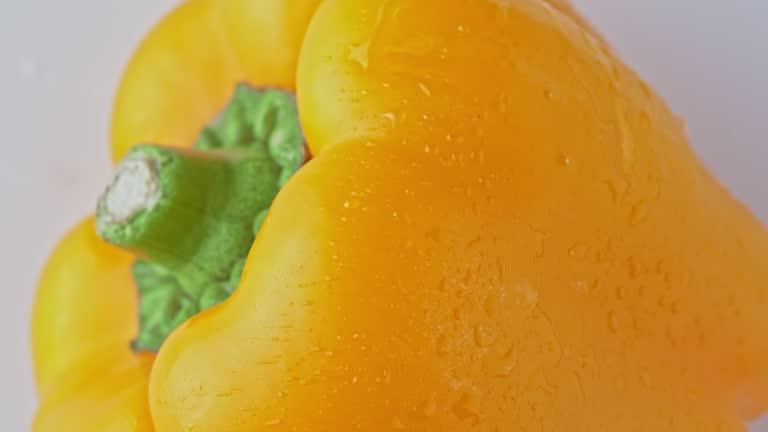Capsicum: (31, 0, 767, 431)
